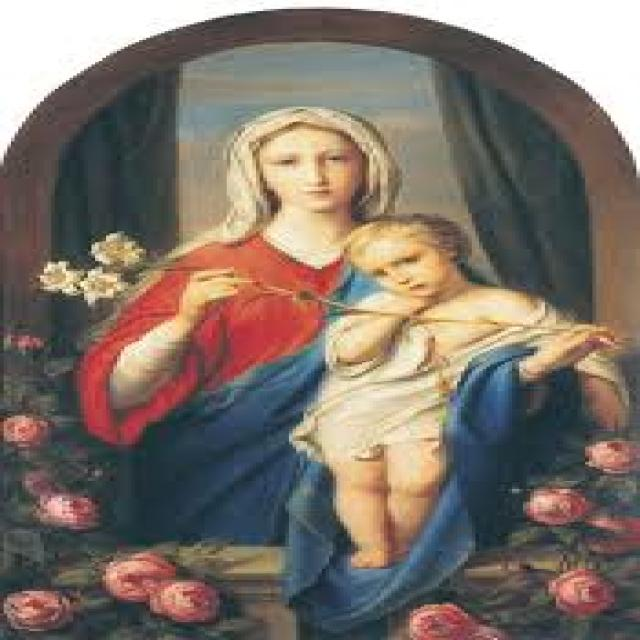mother of god: (80, 111, 612, 610)
